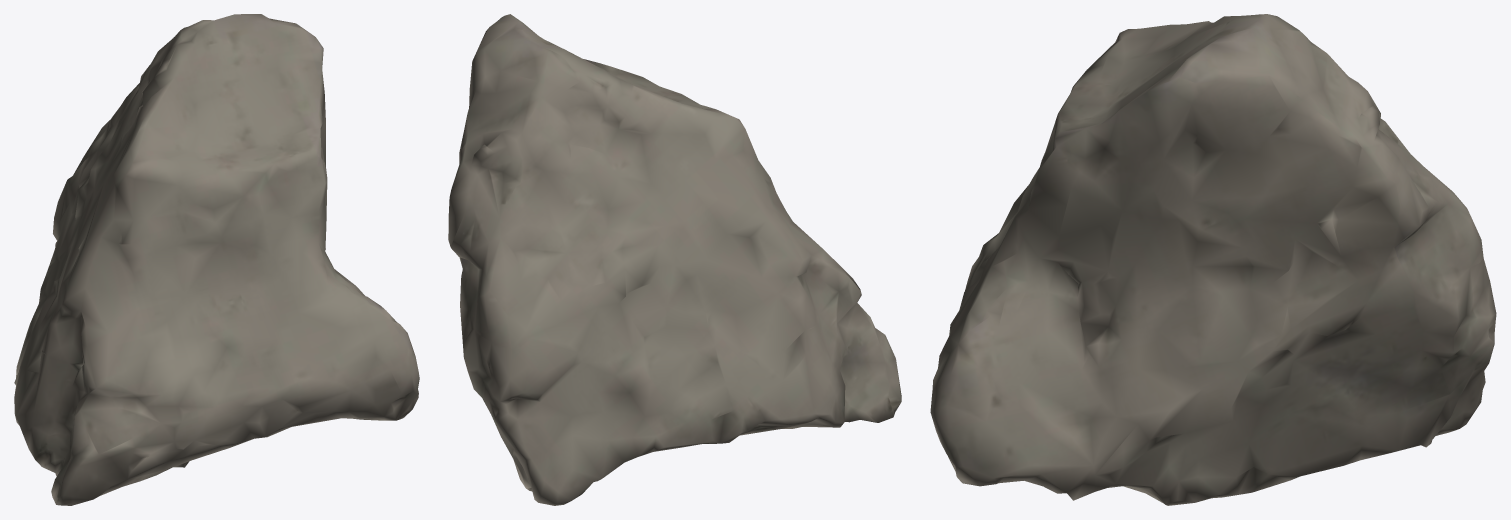
File: moon_rock_05.glb
The picture shows the model from 3 angles, left to right: view 1: azimuth 30°, elevation 25°; view 2: azimuth 150°, elevation 25°; view 3: azimuth 270°, elevation 25°; orthographic projection. The views are drawn at different scales.
Parts seen in each view (by area): view 1: moon_rock_05_LOD0; view 2: moon_rock_05_LOD0; view 3: moon_rock_05_LOD0.
Part boxes in pixels (bbox=[...]): moon_rock_05_LOD0: bbox=[14, 14, 419, 505]; moon_rock_05_LOD0: bbox=[448, 14, 901, 505]; moon_rock_05_LOD0: bbox=[930, 14, 1496, 505].
Size of the model in its own units: 0.0717 by 0.0734 by 0.0811.
1 material, 1 textured.
